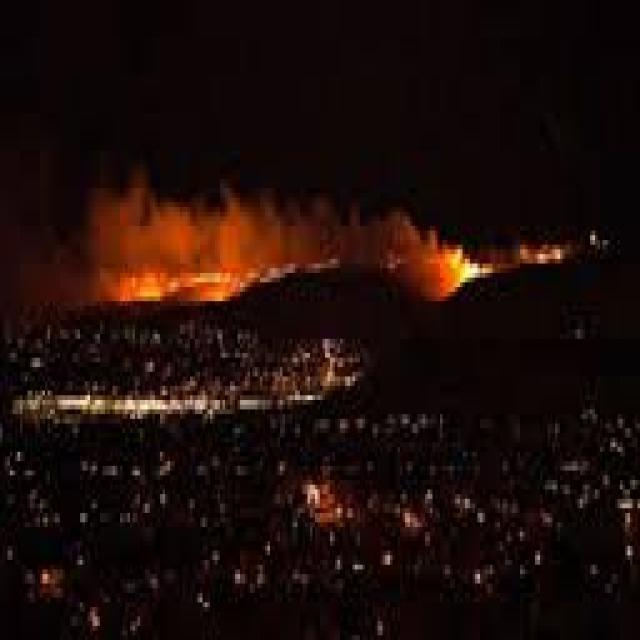Fire: (94, 258, 250, 308), (440, 243, 502, 304)
Smoke: (59, 170, 580, 310)
